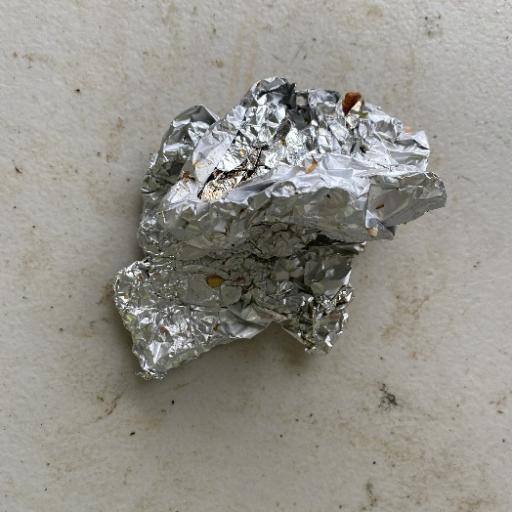Metal: (110, 74, 448, 381)
